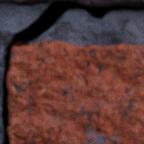brick: (7, 40, 143, 143), (70, 0, 143, 7), (0, 0, 50, 5)
crack: (0, 0, 143, 143)
